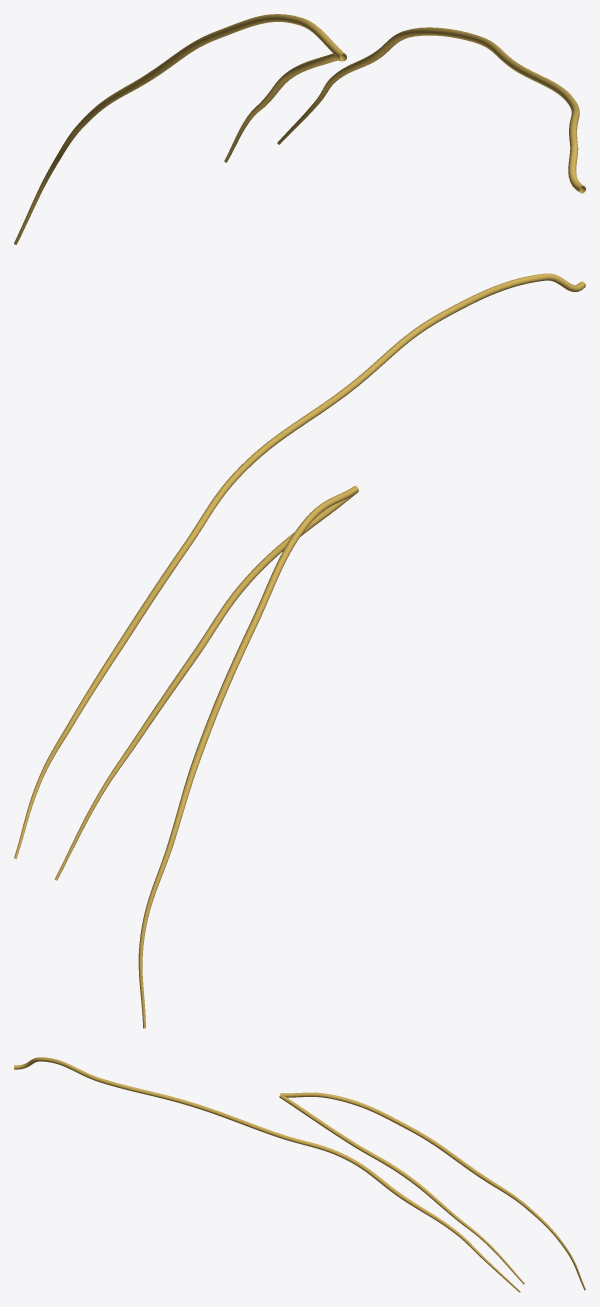
The picture shows the model from 3 angles, top to bottom: view 1: azimuth 30°, elevation 25°; view 2: azimuth 150°, elevation 25°; view 3: azimuth 270°, elevation 25°; orthographic projection. The views are drawn at different scales.
Visible parts, largest first — view 1: 右侧尺神经指掌侧固有神经; view 2: 右侧尺神经指掌侧固有神经; view 3: 右侧尺神经指掌侧固有神经.
Part boxes in pixels (bbox=[...]): 右侧尺神经指掌侧固有神经: bbox=[14, 14, 585, 244]; 右侧尺神经指掌侧固有神经: bbox=[14, 273, 585, 1028]; 右侧尺神经指掌侧固有神经: bbox=[14, 1057, 585, 1292].
Size of the model in its own units: 0.0446 by 0.0924 by 0.1925.
